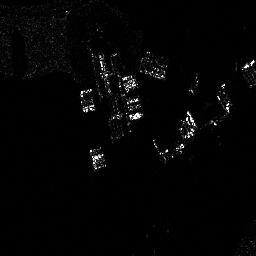ship: (78, 87, 96, 113)
